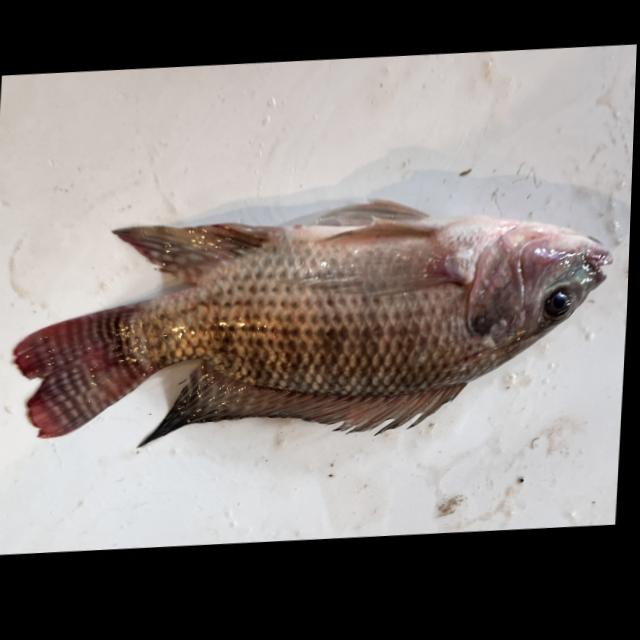Tilapia: (8, 174, 616, 463)
